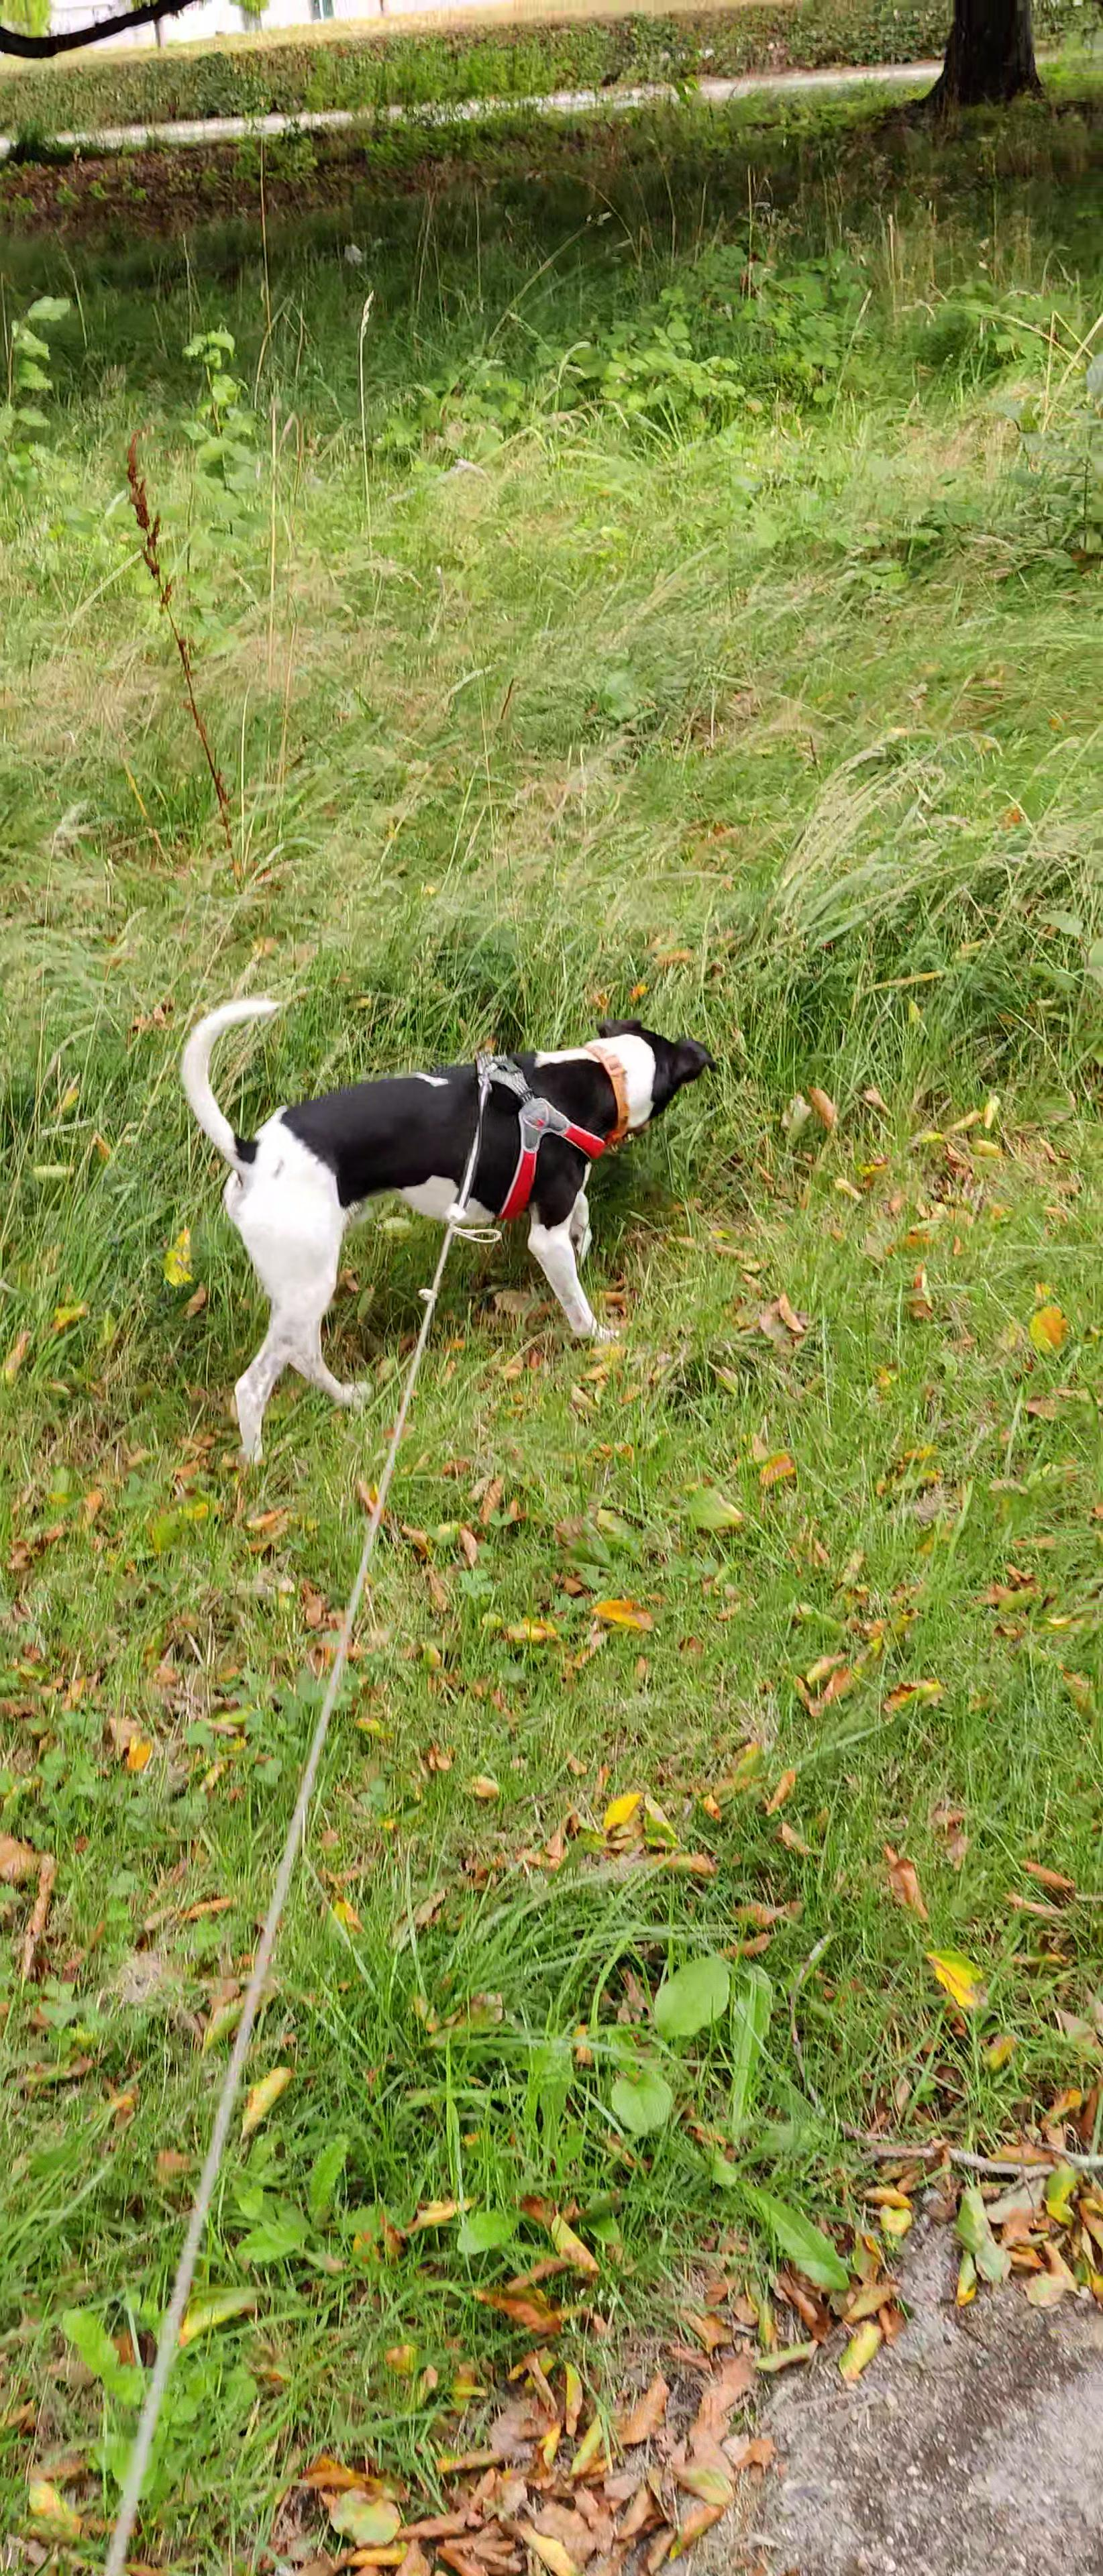Dog: (155, 981, 728, 1479)
